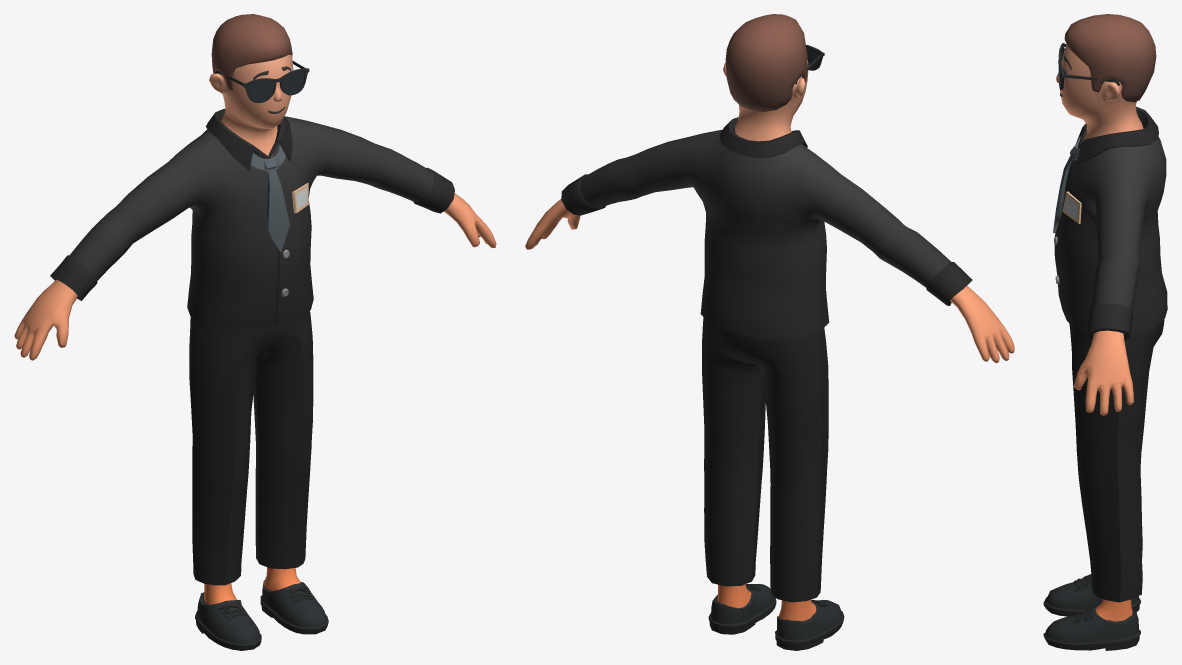
The model's file is 18_Security.obj.
3 renders of one model, left to right at view 1: azimuth 30°, elevation 25°; view 2: azimuth 150°, elevation 25°; view 3: azimuth 270°, elevation 25°, orthographic.
Visible parts, largest first — view 1: Adult_Male_Security_Shirt, Adult_Male_Security_Pants, Adult_Male__Security_Body, Adult_Male_Security_Shoes, Adult_Male_Security_Hairstyle, Adult_Male_Security_Glasses; view 2: Adult_Male_Security_Shirt, Adult_Male_Security_Pants, Adult_Male__Security_Body, Adult_Male_Security_Hairstyle, Adult_Male_Security_Shoes; view 3: Adult_Male_Security_Shirt, Adult_Male_Security_Pants, Adult_Male__Security_Body, Adult_Male_Security_Hairstyle, Adult_Male_Security_Shoes, Adult_Male_Security_Glasses.
Boxes of the visible parts, <box> form: Adult_Male_Security_Shirt: <box>50,108,454,329</box>; Adult_Male_Security_Pants: <box>189,310,313,585</box>; Adult_Male__Security_Body: <box>14,54,496,604</box>; Adult_Male_Security_Shoes: <box>195,580,328,650</box>; Adult_Male_Security_Hairstyle: <box>211,14,292,90</box>; Adult_Male_Security_Glasses: <box>215,61,309,102</box>; Adult_Male_Security_Shirt: <box>561,117,972,339</box>; Adult_Male_Security_Pants: <box>702,317,828,602</box>; Adult_Male__Security_Body: <box>525,60,1014,621</box>; Adult_Male_Security_Hairstyle: <box>725,14,807,111</box>; Adult_Male_Security_Shoes: <box>708,584,844,650</box>; Adult_Male_Security_Shirt: <box>1053,106,1167,340</box>; Adult_Male_Security_Pants: <box>1069,319,1164,602</box>; Adult_Male__Security_Body: <box>1056,45,1143,621</box>; Adult_Male_Security_Hairstyle: <box>1064,14,1156,102</box>; Adult_Male_Security_Shoes: <box>1043,574,1140,650</box>; Adult_Male_Security_Glasses: <box>1058,43,1120,89</box>.
Size of the model in its own units: 1.43 by 1.75 by 0.3244.
Materials: 2 (2 with a texture image).
